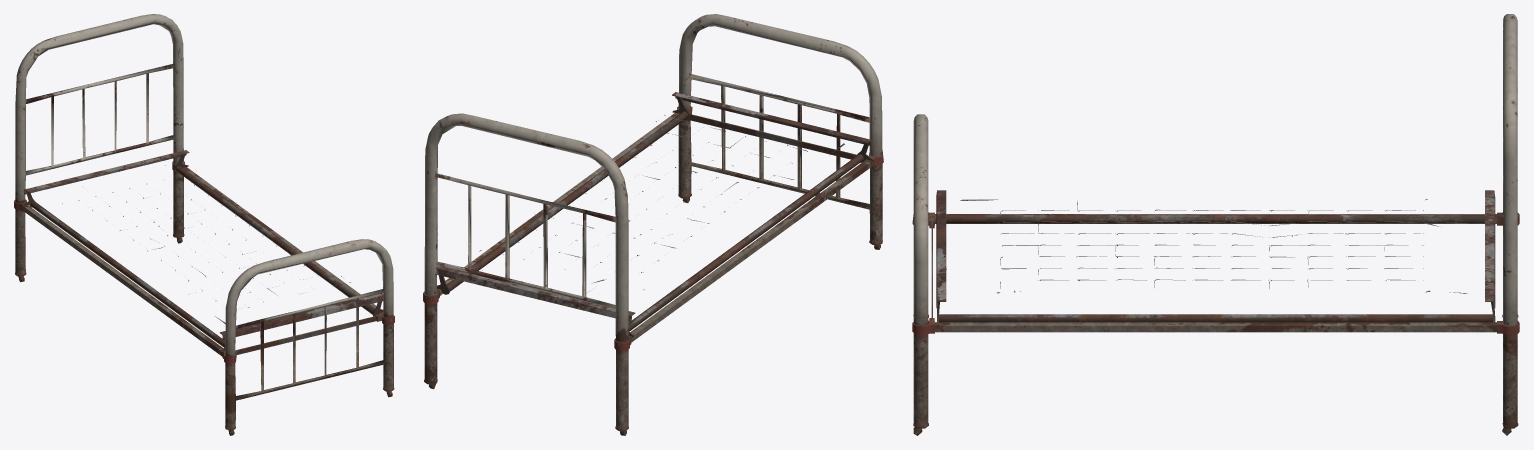
The model's file is old_bed_frame.glb.
3 views of the same model, side by side, from view 1: azimuth 30°, elevation 25°; view 2: azimuth 150°, elevation 25°; view 3: azimuth 270°, elevation 25° (orthographic). The views are drawn at different scales.
Visible parts, largest first — view 1: old_bed_frame; view 2: old_bed_frame; view 3: old_bed_frame.
Boxes of the visible parts, left/top/right/bottom form: old_bed_frame: left=14, top=14, right=394, bottom=435; old_bed_frame: left=423, top=14, right=883, bottom=435; old_bed_frame: left=912, top=14, right=1519, bottom=435.
Bounding box in the file's own units: 0.9047 × 1.2 × 2.
1 material, 1 textured.
